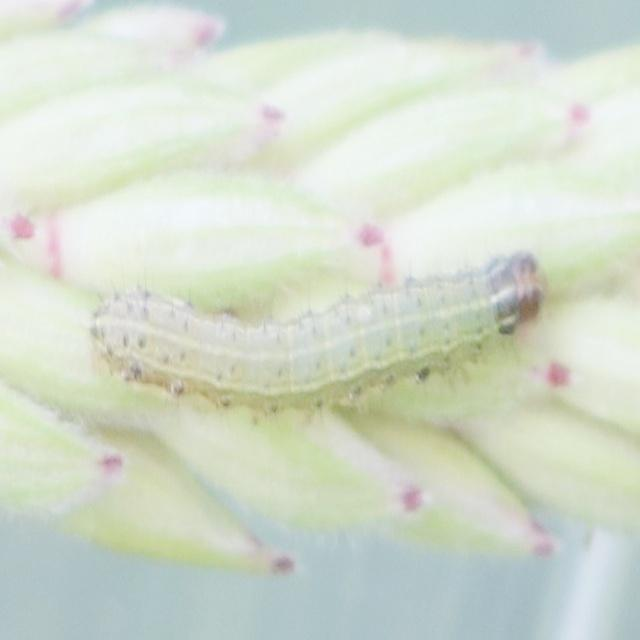worm: (87, 249, 547, 410)
